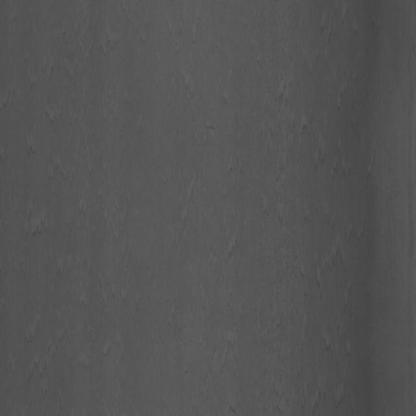silk_spot: (260, 200, 358, 326), (250, 61, 327, 180)
